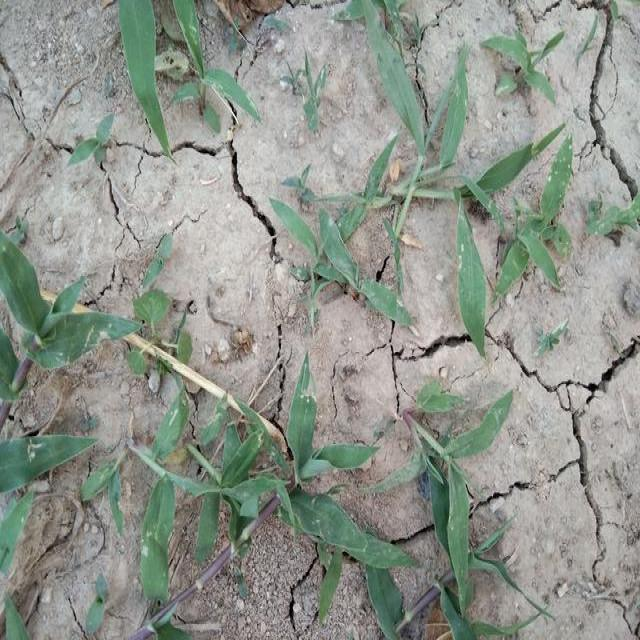weed: (89, 378, 439, 637), (380, 13, 576, 353), (0, 228, 145, 637), (402, 382, 518, 607), (278, 173, 409, 352), (185, 1, 251, 159), (122, 14, 178, 159), (298, 44, 342, 150)
